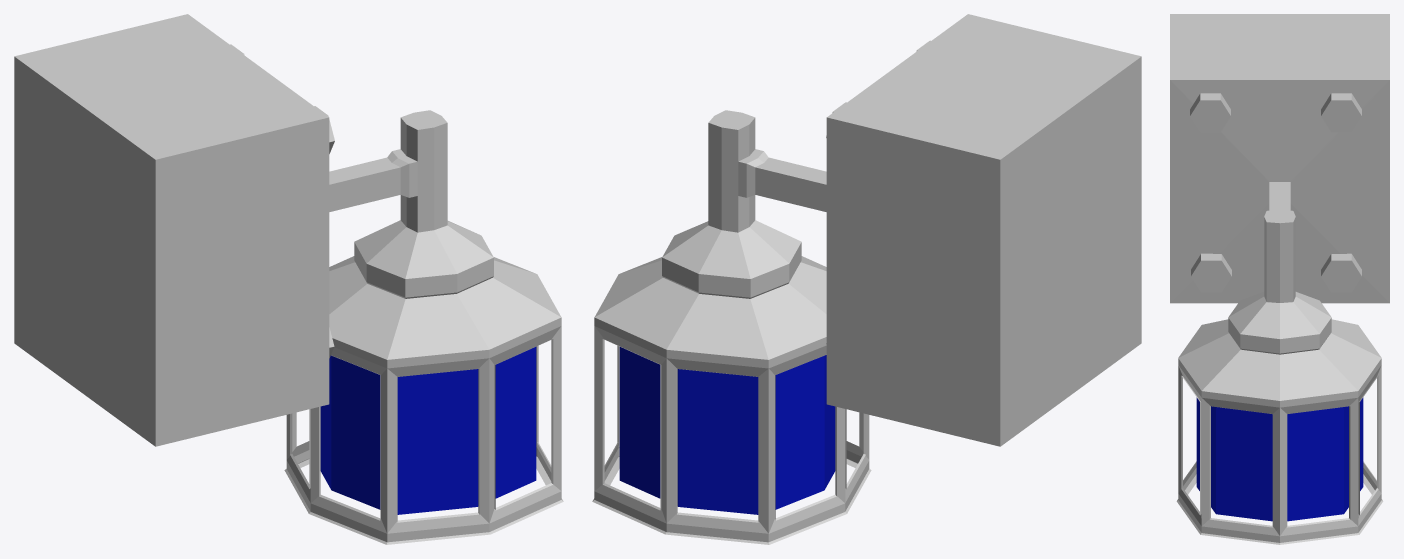
File: Lamp 1.fbx
3 renders of one model, left to right at view 1: azimuth 30°, elevation 25°; view 2: azimuth 150°, elevation 25°; view 3: azimuth 270°, elevation 25°, orthographic. The views are drawn at different scales.
Visible parts, largest first — view 1: Cube.001, Cube; view 2: Cube.001, Cube; view 3: Cube.001, Cube.
Part boxes in pixels (left/top/right/bottom): Cube.001: left=14, top=14, right=563, bottom=544; Cube: left=320, top=347, right=536, bottom=514; Cube.001: left=592, top=14, right=1141, bottom=544; Cube: left=619, top=347, right=835, bottom=514; Cube.001: left=1170, top=14, right=1389, bottom=544; Cube: left=1196, top=397, right=1363, bottom=521.
Bounding box in the file's own units: 638 × 618 × 344.
